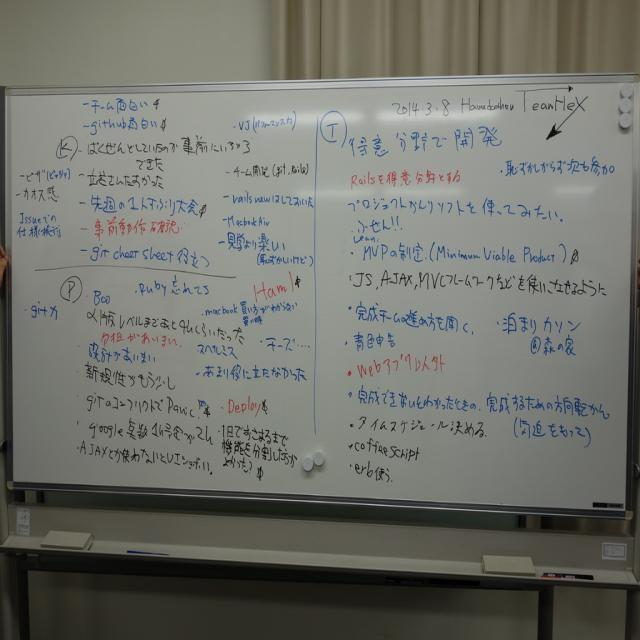Whiteboard: (0, 72, 639, 520)
